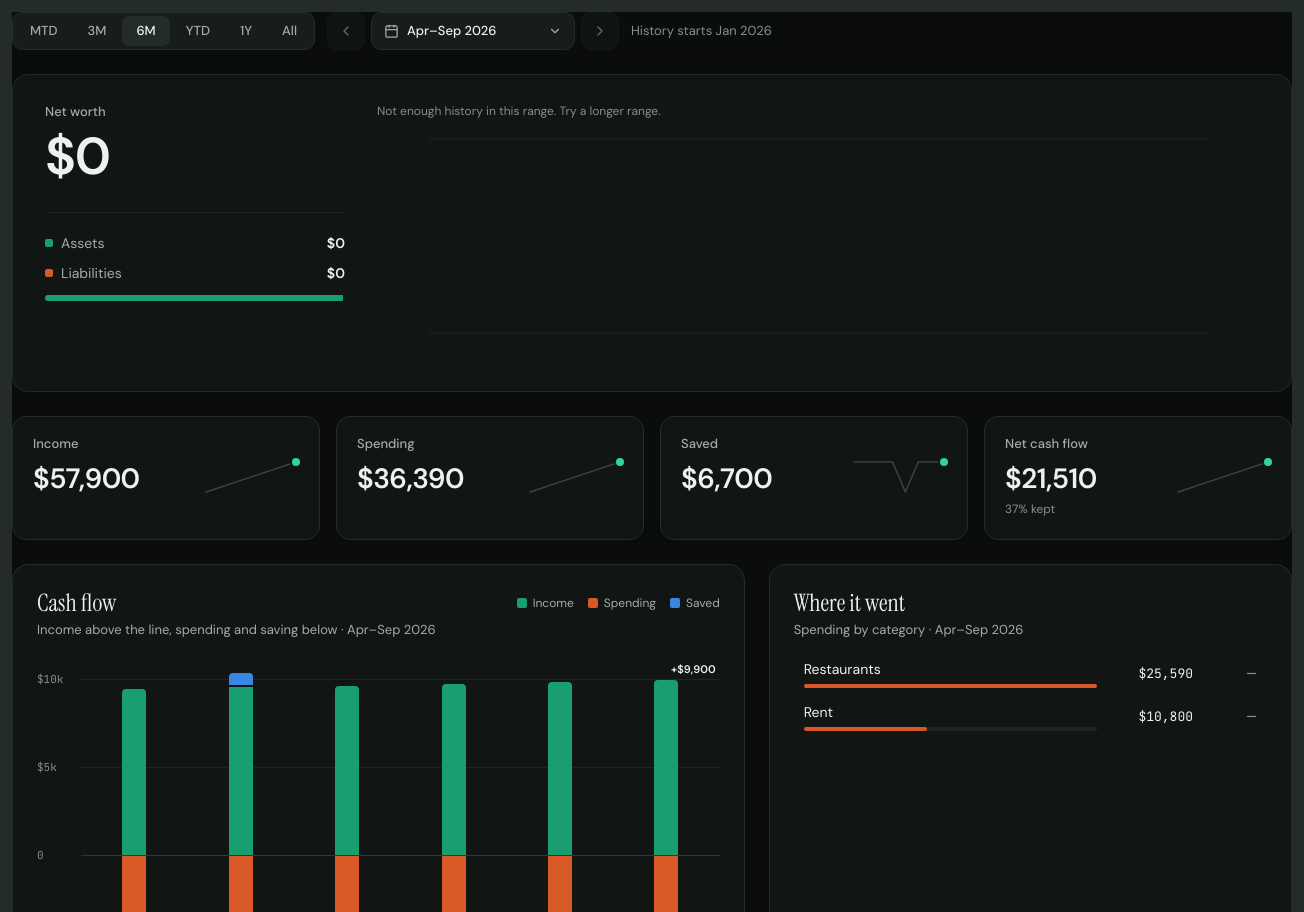
Test: AnalyticsView › switches to 3M without refetching cash flow and compares with the three months before
Expected: the heading "Where it went" is shown, [794,587,905,618]
Click the button "3M". click: click(97, 31)
box: [74,16,120,46]
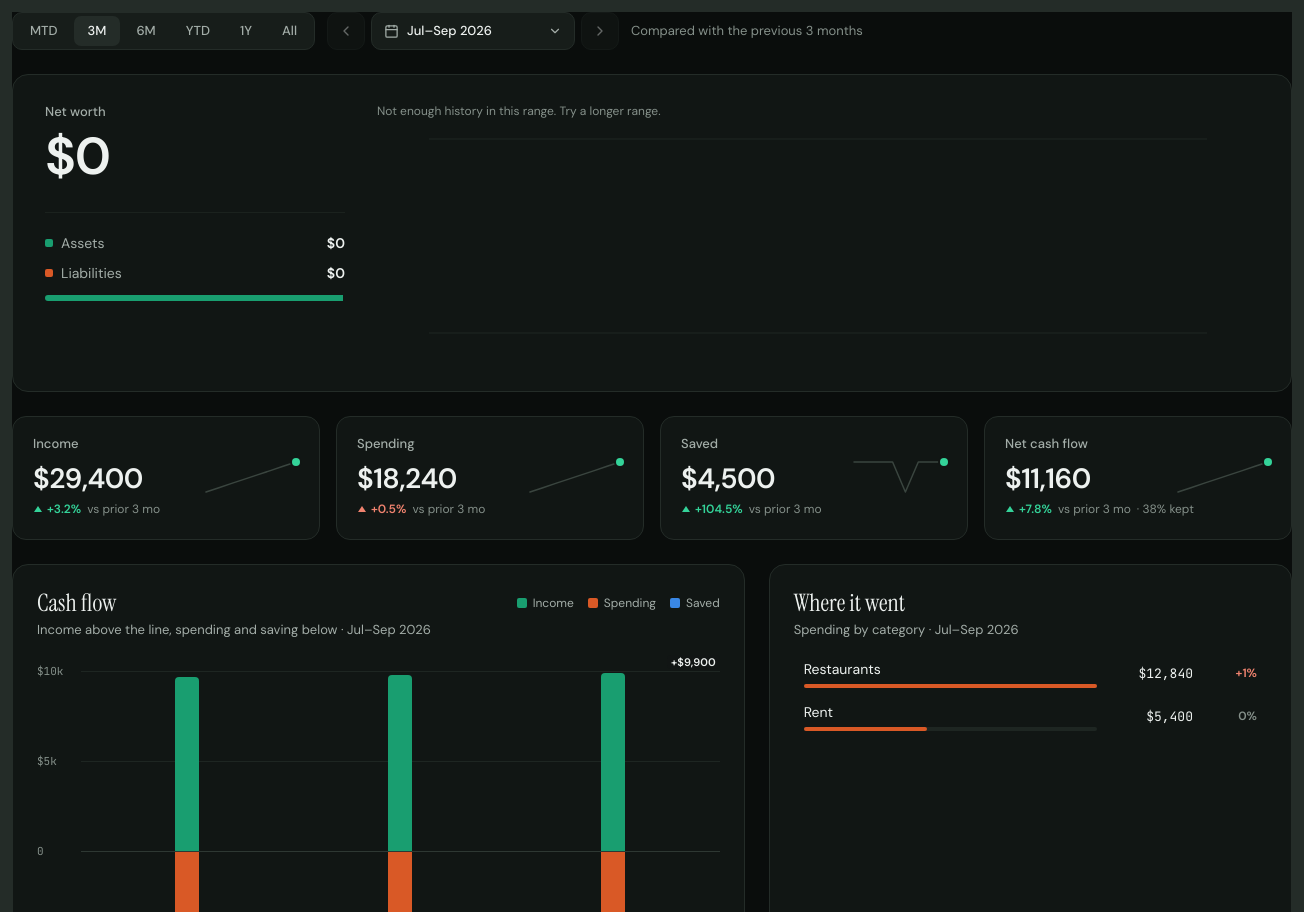
Now the text "Compared with the previous 3 months" is shown, box [631,22,863,40]
Now the text "vs prior 3 mo" is shown 4 times, box [87,501,160,517]; [412,501,485,517]; [749,501,822,517]; [1058,501,1131,517]
